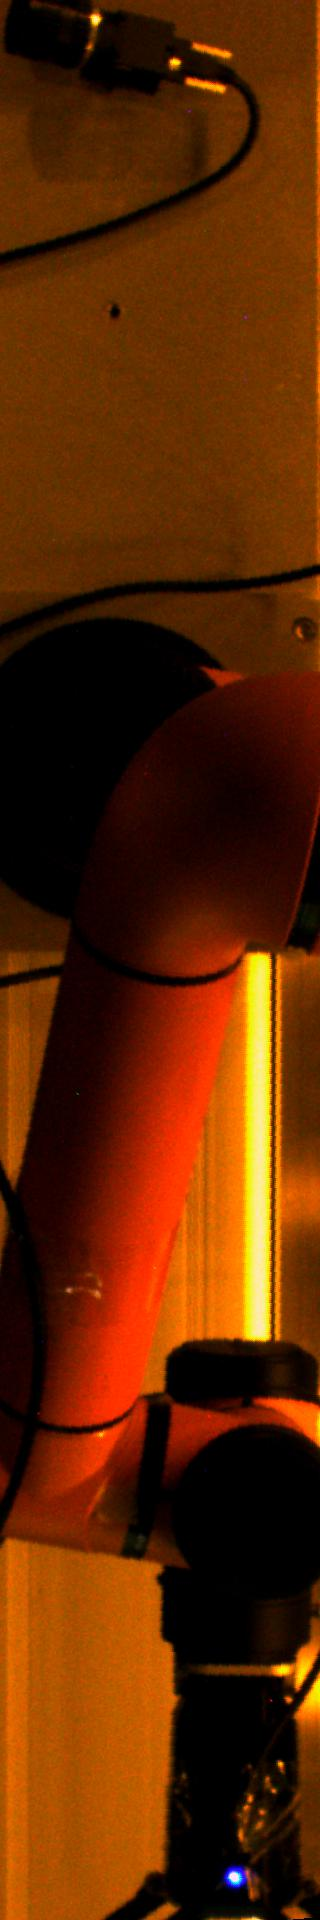keyPoint_1: (219, 1861, 250, 1891)
keyPoint_2: (99, 298, 129, 328)
